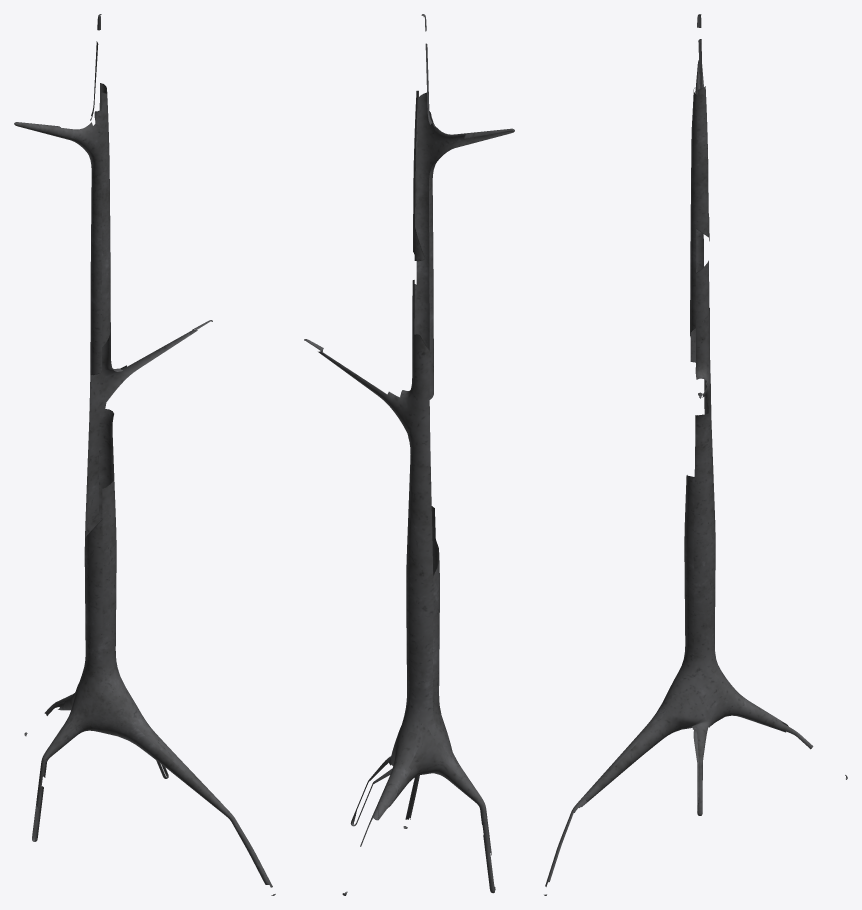
The model's file is tree_04.fbx.
The picture shows the model from 3 angles, left to right: view 1: azimuth 30°, elevation 25°; view 2: azimuth 150°, elevation 25°; view 3: azimuth 270°, elevation 25°; orthographic projection. The views are drawn at different scales.
Parts seen in each view (by area): view 1: tree_04; view 2: tree_04; view 3: tree_04.
Part boxes in pixels (bbox=[...]): tree_04: bbox=[14, 14, 275, 895]; tree_04: bbox=[304, 14, 514, 895]; tree_04: bbox=[544, 14, 847, 895].
Size of the model in its own units: 283 by 1156 by 382.
